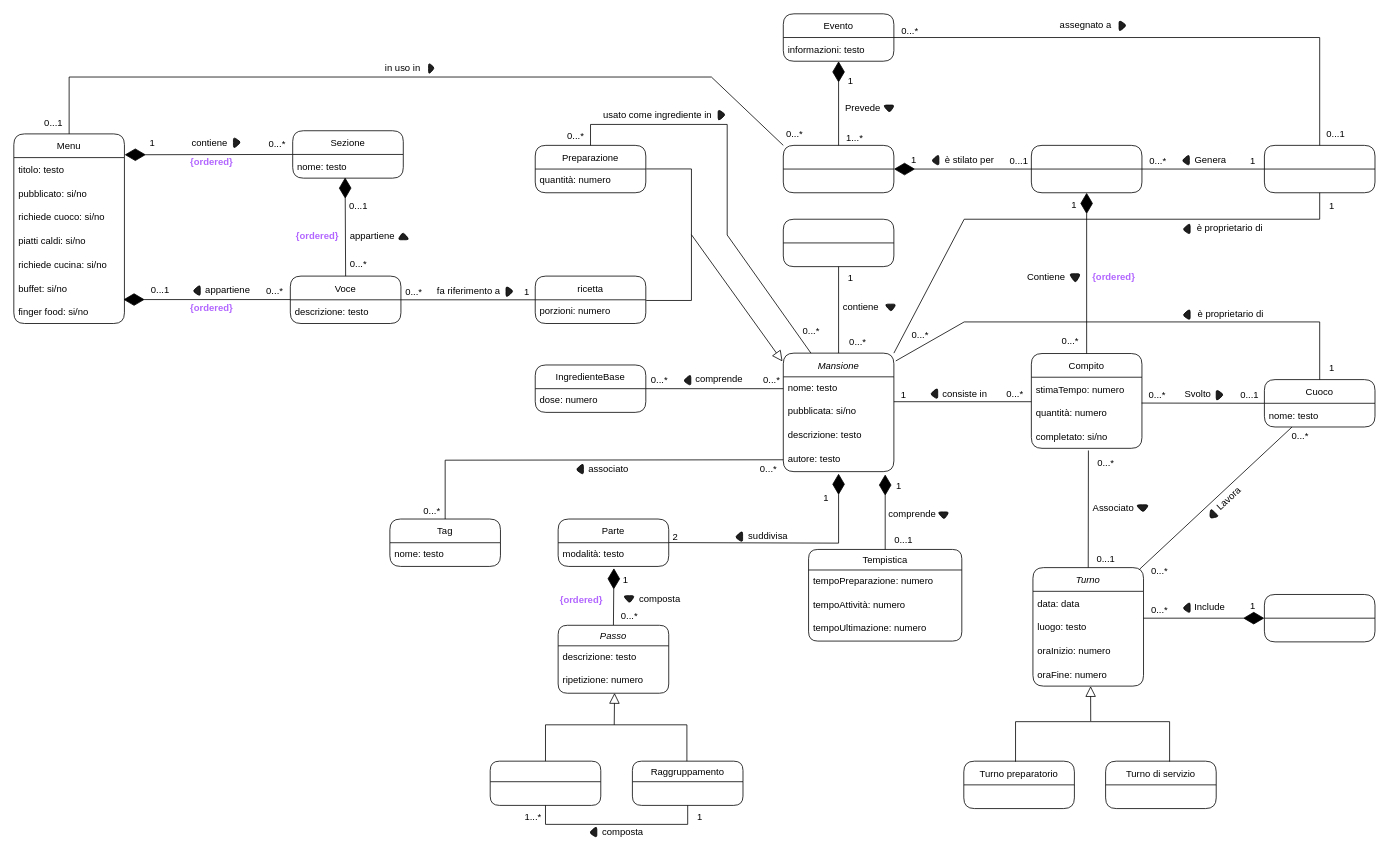
Image size: 1389x854. Some labels were removed from this diagram. The shapes that lost their labels are listed below. From the top down, each one's centre as x and y in pixels, then its label:
pixel 838 169: Servizio
pixel 1086 169: Foglio Riepilogativo
pixel 1319 169: Chef
pixel 838 242: Ricettario
pixel 1319 618: TabelloneTurni
pixel 545 782: Semplice
